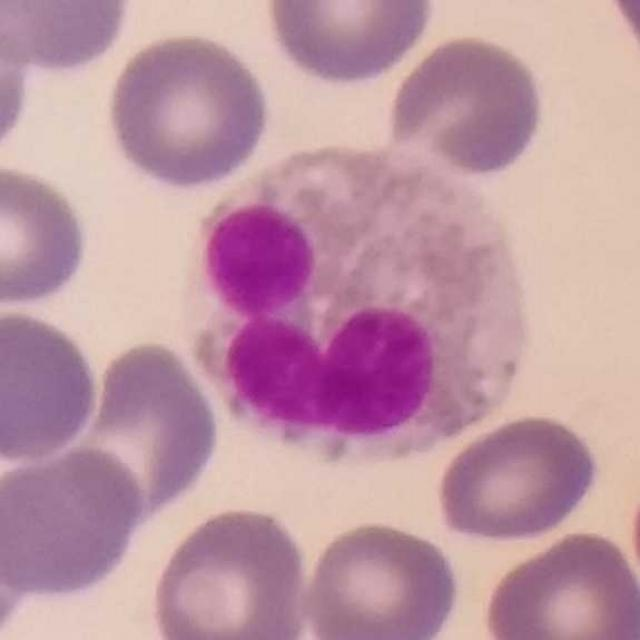eosino: (185, 140, 540, 467)
